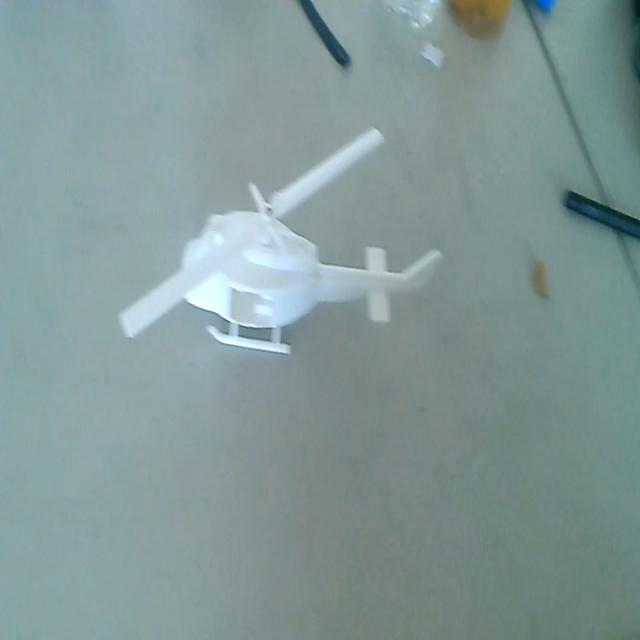Helicopter: (116, 120, 443, 405)
